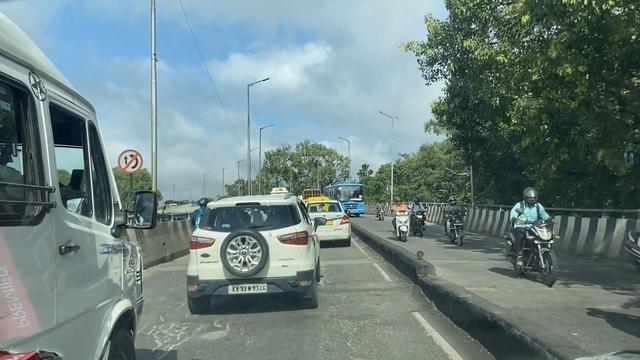LMV: (190, 197, 317, 309), (309, 202, 350, 243)
RoadDamages: (141, 307, 229, 357), (318, 278, 426, 308)
SpeedBump: (323, 255, 380, 269)
